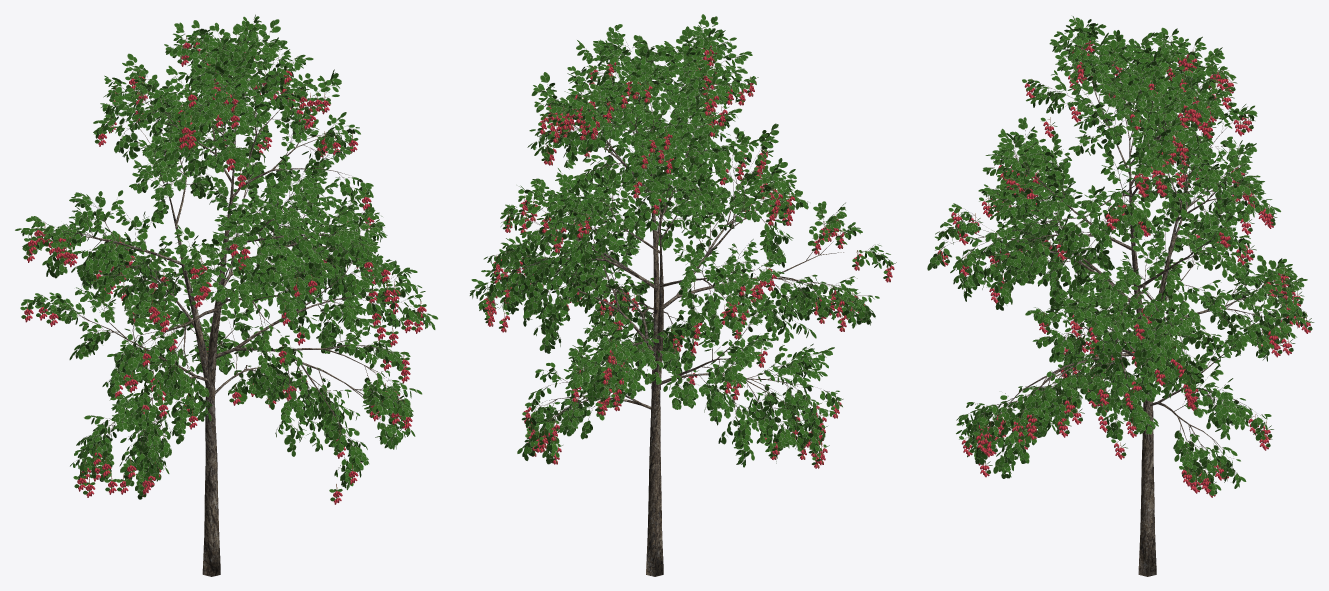
File: tree.fbx
3 views of the same model, side by side, from view 1: azimuth 30°, elevation 25°; view 2: azimuth 150°, elevation 25°; view 3: azimuth 270°, elevation 25° (orthographic). The views are drawn at different scales.
Visible parts, largest first — view 1: leaves, tree, fruits; view 2: leaves, tree, fruits; view 3: leaves, fruits, tree.
Boxes of the visible parts, x1,y1,x2,y2 form: leaves: (15, 14, 438, 499); tree: (30, 19, 425, 576); fruits: (20, 36, 426, 504); leaves: (469, 14, 891, 467); tree: (475, 23, 888, 576); fruits: (482, 41, 896, 468); leaves: (927, 16, 1310, 496); fruits: (935, 33, 1314, 497); tree: (936, 23, 1306, 576).
Size of the model in its own units: 1231 by 1795 by 1155.
4 materials, 4 textured.
